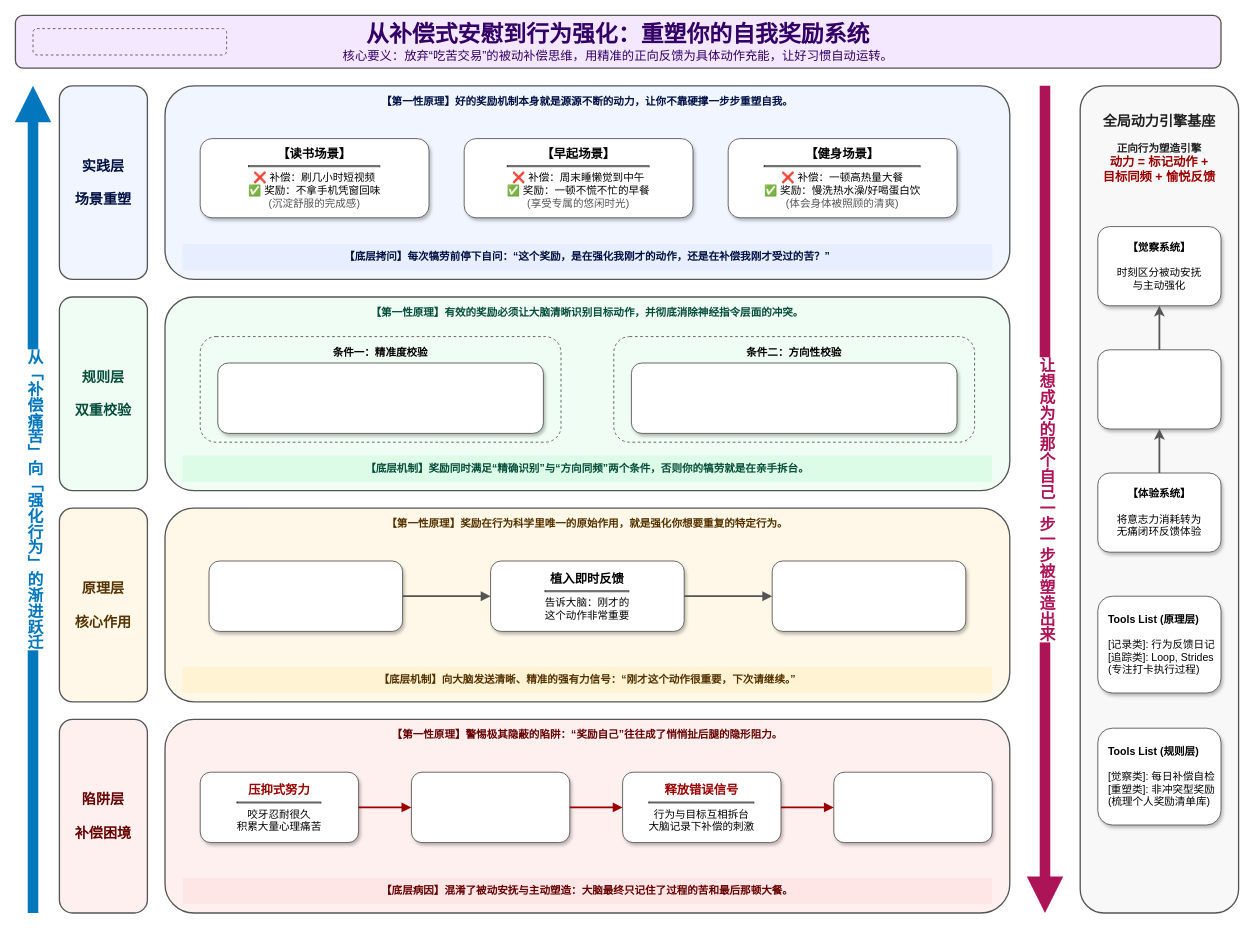
Image size: 1255x944. Some labels were removed from this diagram. Here are the shapes that lost their labels. From the top down, the centre of each, then its label:
At point 129,41: "#行为强化 #反补偿机制 #习惯重塑".
At point 381,399: "精准标记动作本身 奖励具体动作而非模糊的最终结果 大脑只记动作，无法挂钩遥远目标 (❌奖励瘦十斤 ✅奖励今天早睡)".
At point 794,399: "避免长期动机混乱 奖励本身绝不能与想要的方向矛盾 否则长期会倾向于更简单刺激的选项 (❌用暴饮暴食奖励健康生活尝试)".
At point 1159,390: "【锚定系统】 精准定位微小动作 消除结果焦虑".
At point 306,597: "捕捉关键动作 让大脑精准识别出 究竟该重复什么行为".
At point 869,597: "形成自驱闭环 将过程的苦化为甜头 建立无痛重复机制".
At point 491,808: "交易式补偿 终于可以放纵一次 把犒劳当成交易筹码".
At point 913,808: "动力彻底耗尽 越来越没劲不想动 进步被亲手毁掉".
